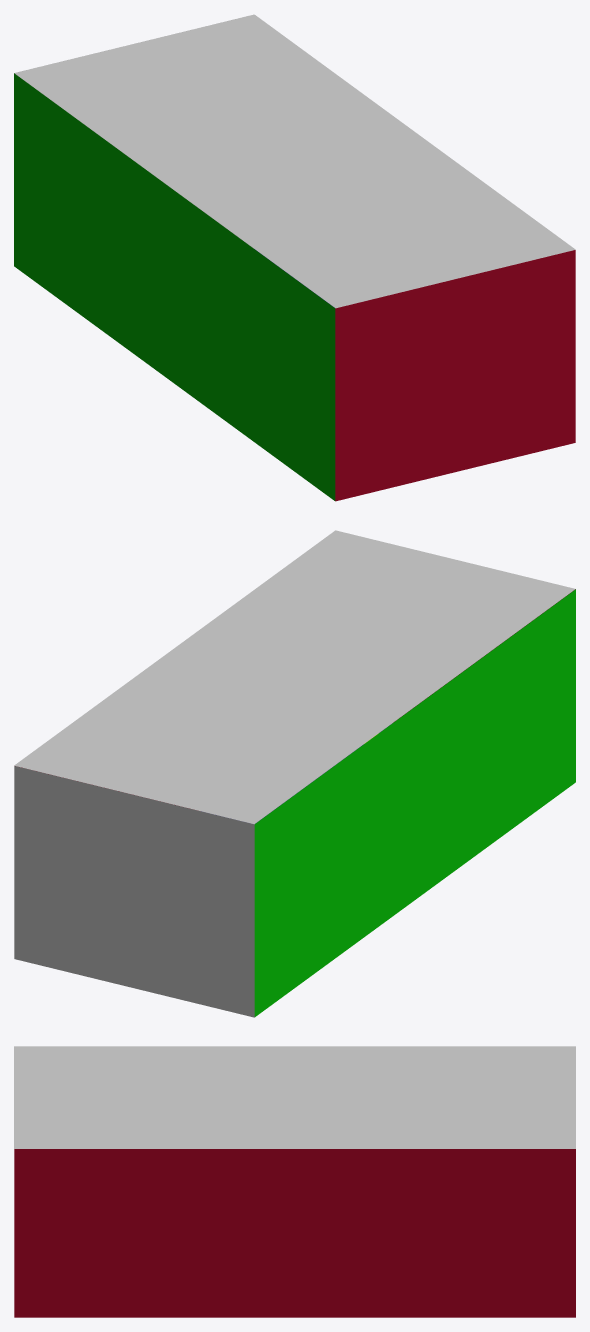
The model's file is cornell.dae.
The picture shows the model from 3 angles, top to bottom: view 1: azimuth 30°, elevation 25°; view 2: azimuth 150°, elevation 25°; view 3: azimuth 270°, elevation 25°; orthographic projection. The views are drawn at different scales.
Visible parts, largest first — view 1: Cube-1, Cube-Ceiling; view 2: Cube-Ceiling, Cube-1, Cube-2; view 3: Cube-2, Cube-Ceiling.
Part boxes in pixels (x1,y1,x2,y2): Cube-1: [14, 73, 575, 501]; Cube-Ceiling: [14, 14, 575, 308]; Cube-Ceiling: [14, 530, 575, 824]; Cube-1: [254, 589, 575, 1016]; Cube-2: [14, 766, 254, 1017]; Cube-2: [14, 1149, 575, 1317]; Cube-Ceiling: [14, 1046, 575, 1148].
Bounding box in the file's own units: 5.67 × 13.13 × 4.36.
